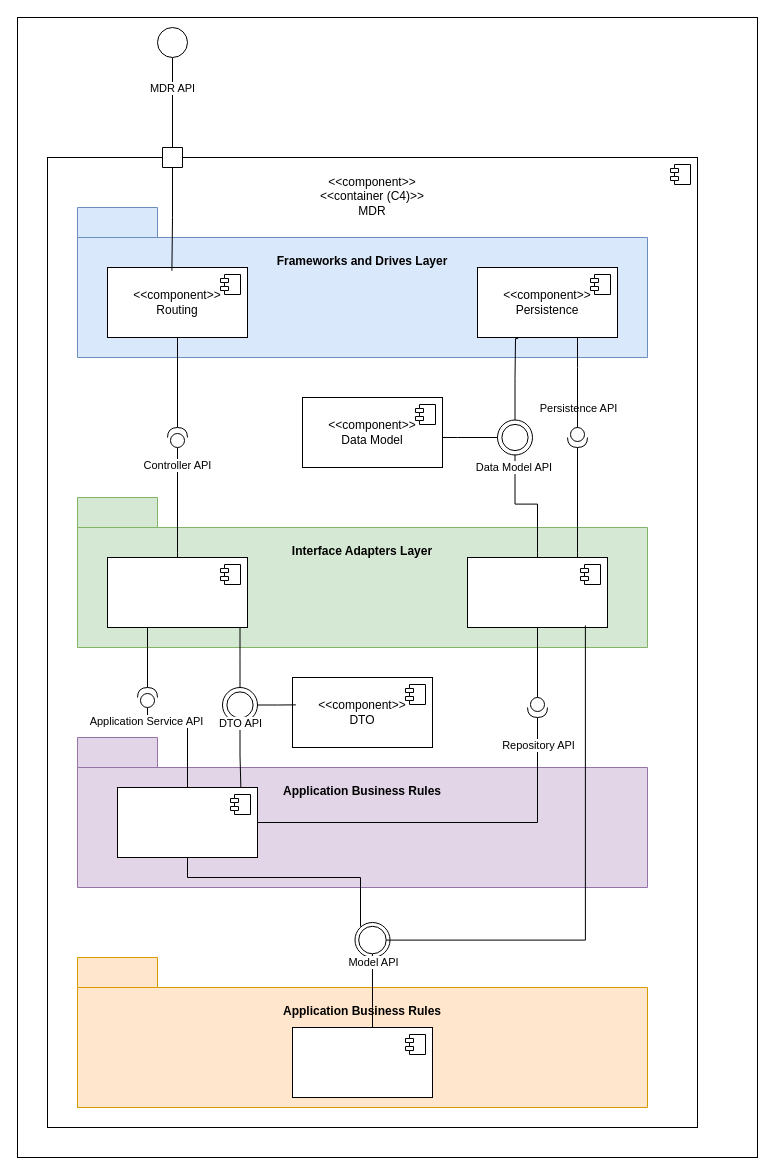
The diagram is 775 pixels wide and 1175 high, and some of its shapes have lost their labels. The centre of each missing label's shape, as x and y in pixels:
"<<component>> Application Service" goes at pixel 187 822.
"<<component>> Controller" goes at pixel 177 592.
"<<component>> Domain Model (DDD)" goes at pixel 362 1062.
"<<component>> Repository" goes at pixel 537 592.
